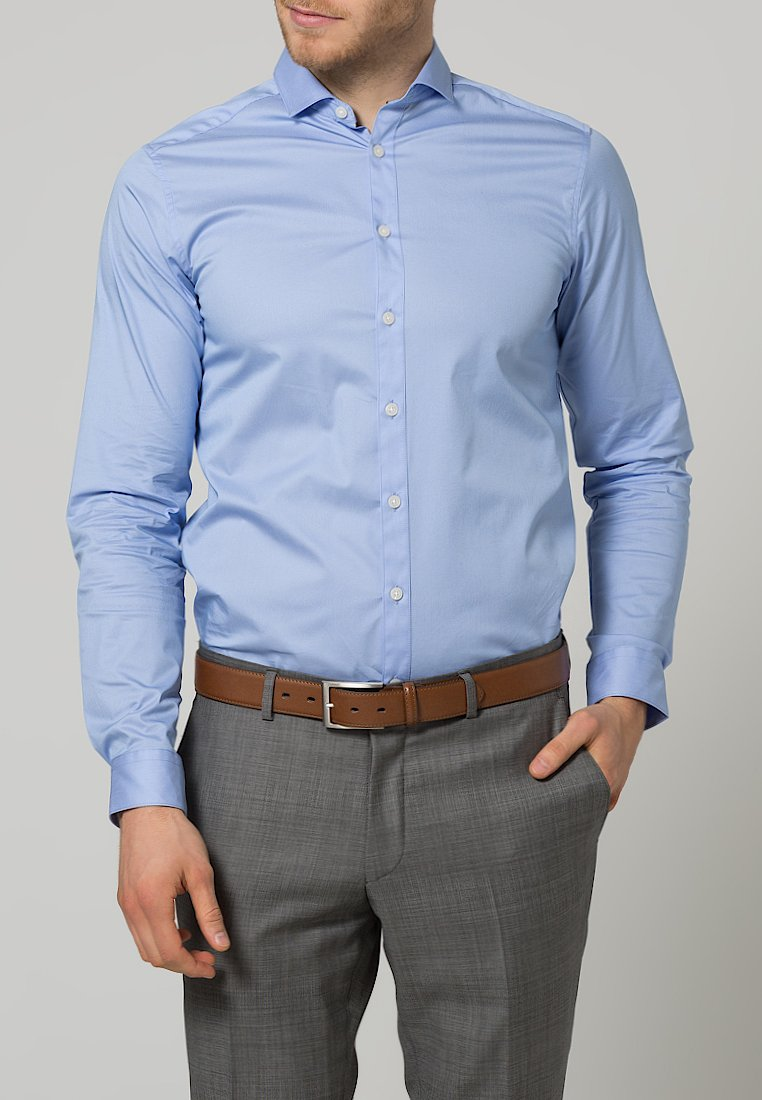F_belt: (183, 633, 587, 743)
F_dress pants: (192, 657, 597, 1100)
F_shirt: (77, 55, 680, 771)
